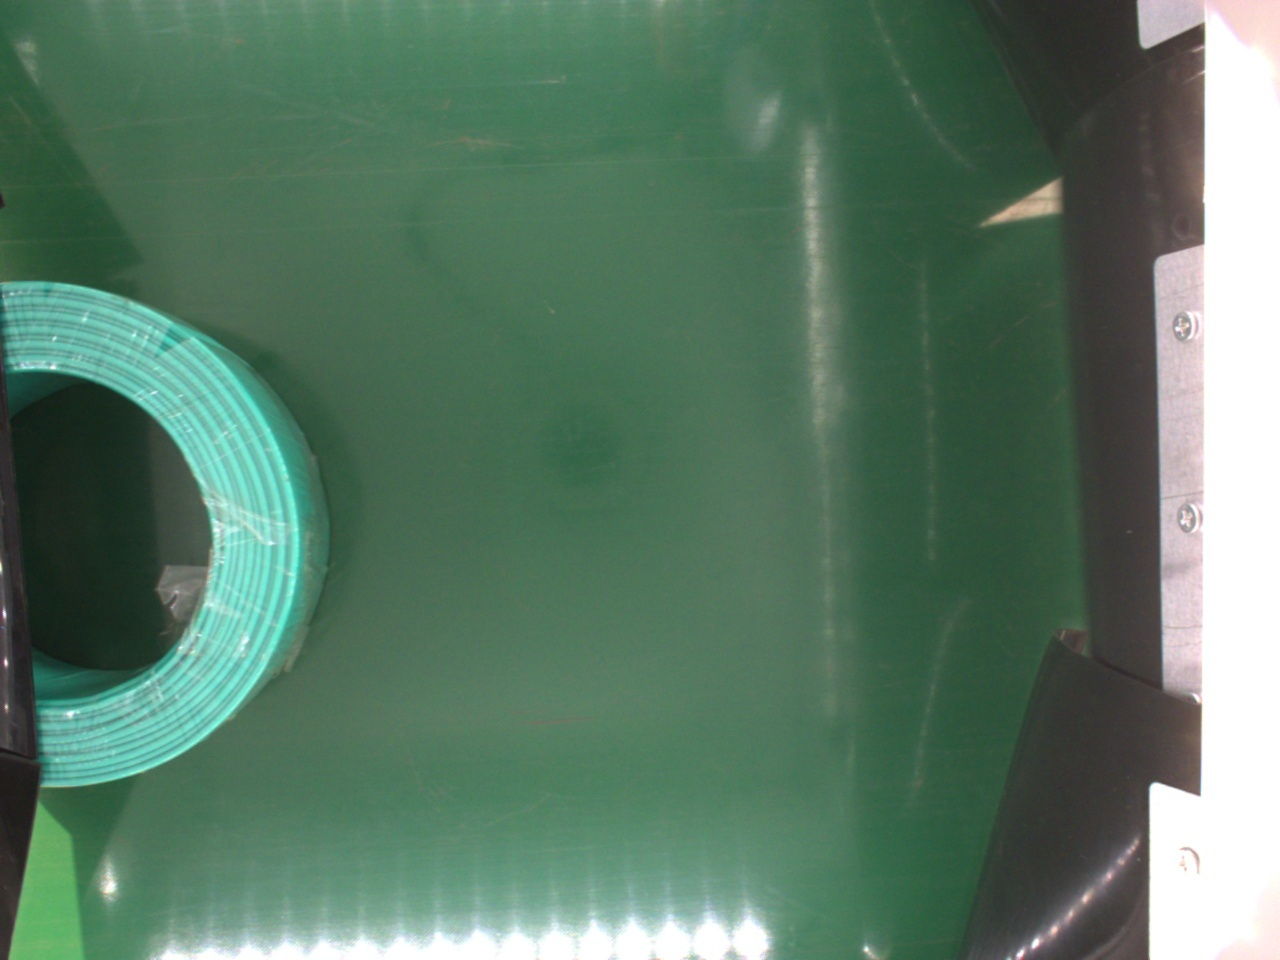green: (6, 281, 324, 789)
